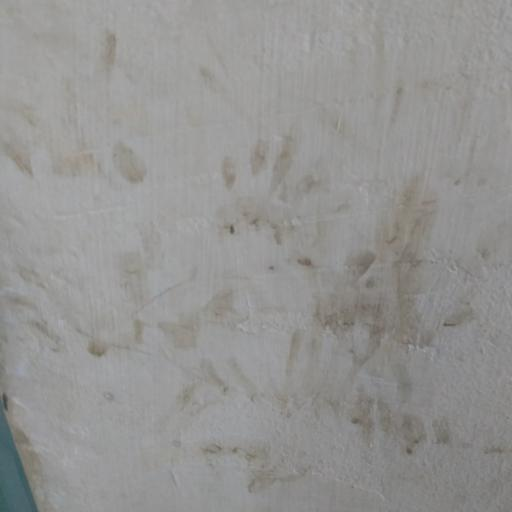stain: (15, 54, 512, 476)
